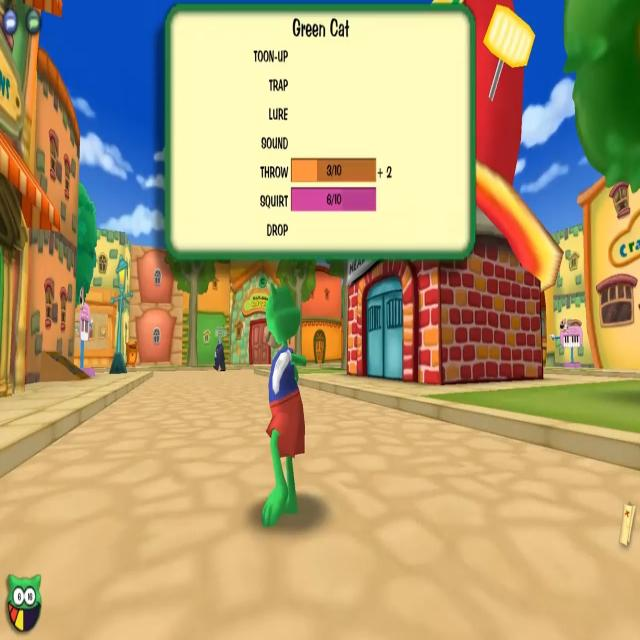bottomfeeder: (211, 320, 232, 383)
